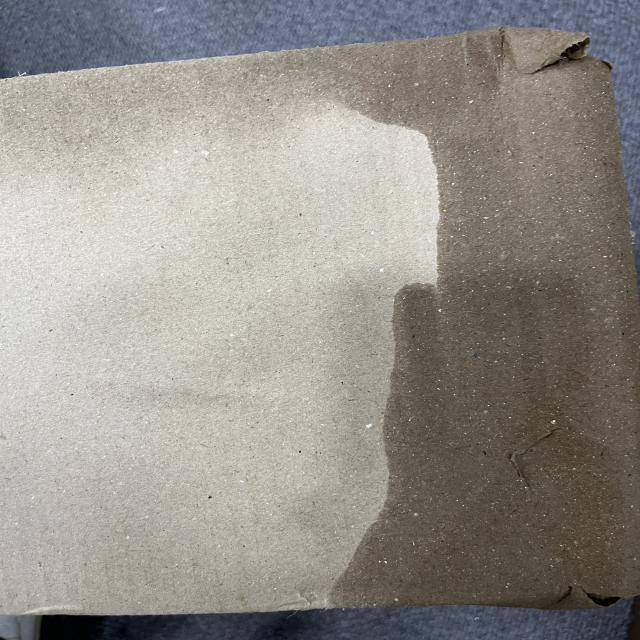wet: (332, 46, 639, 607)
